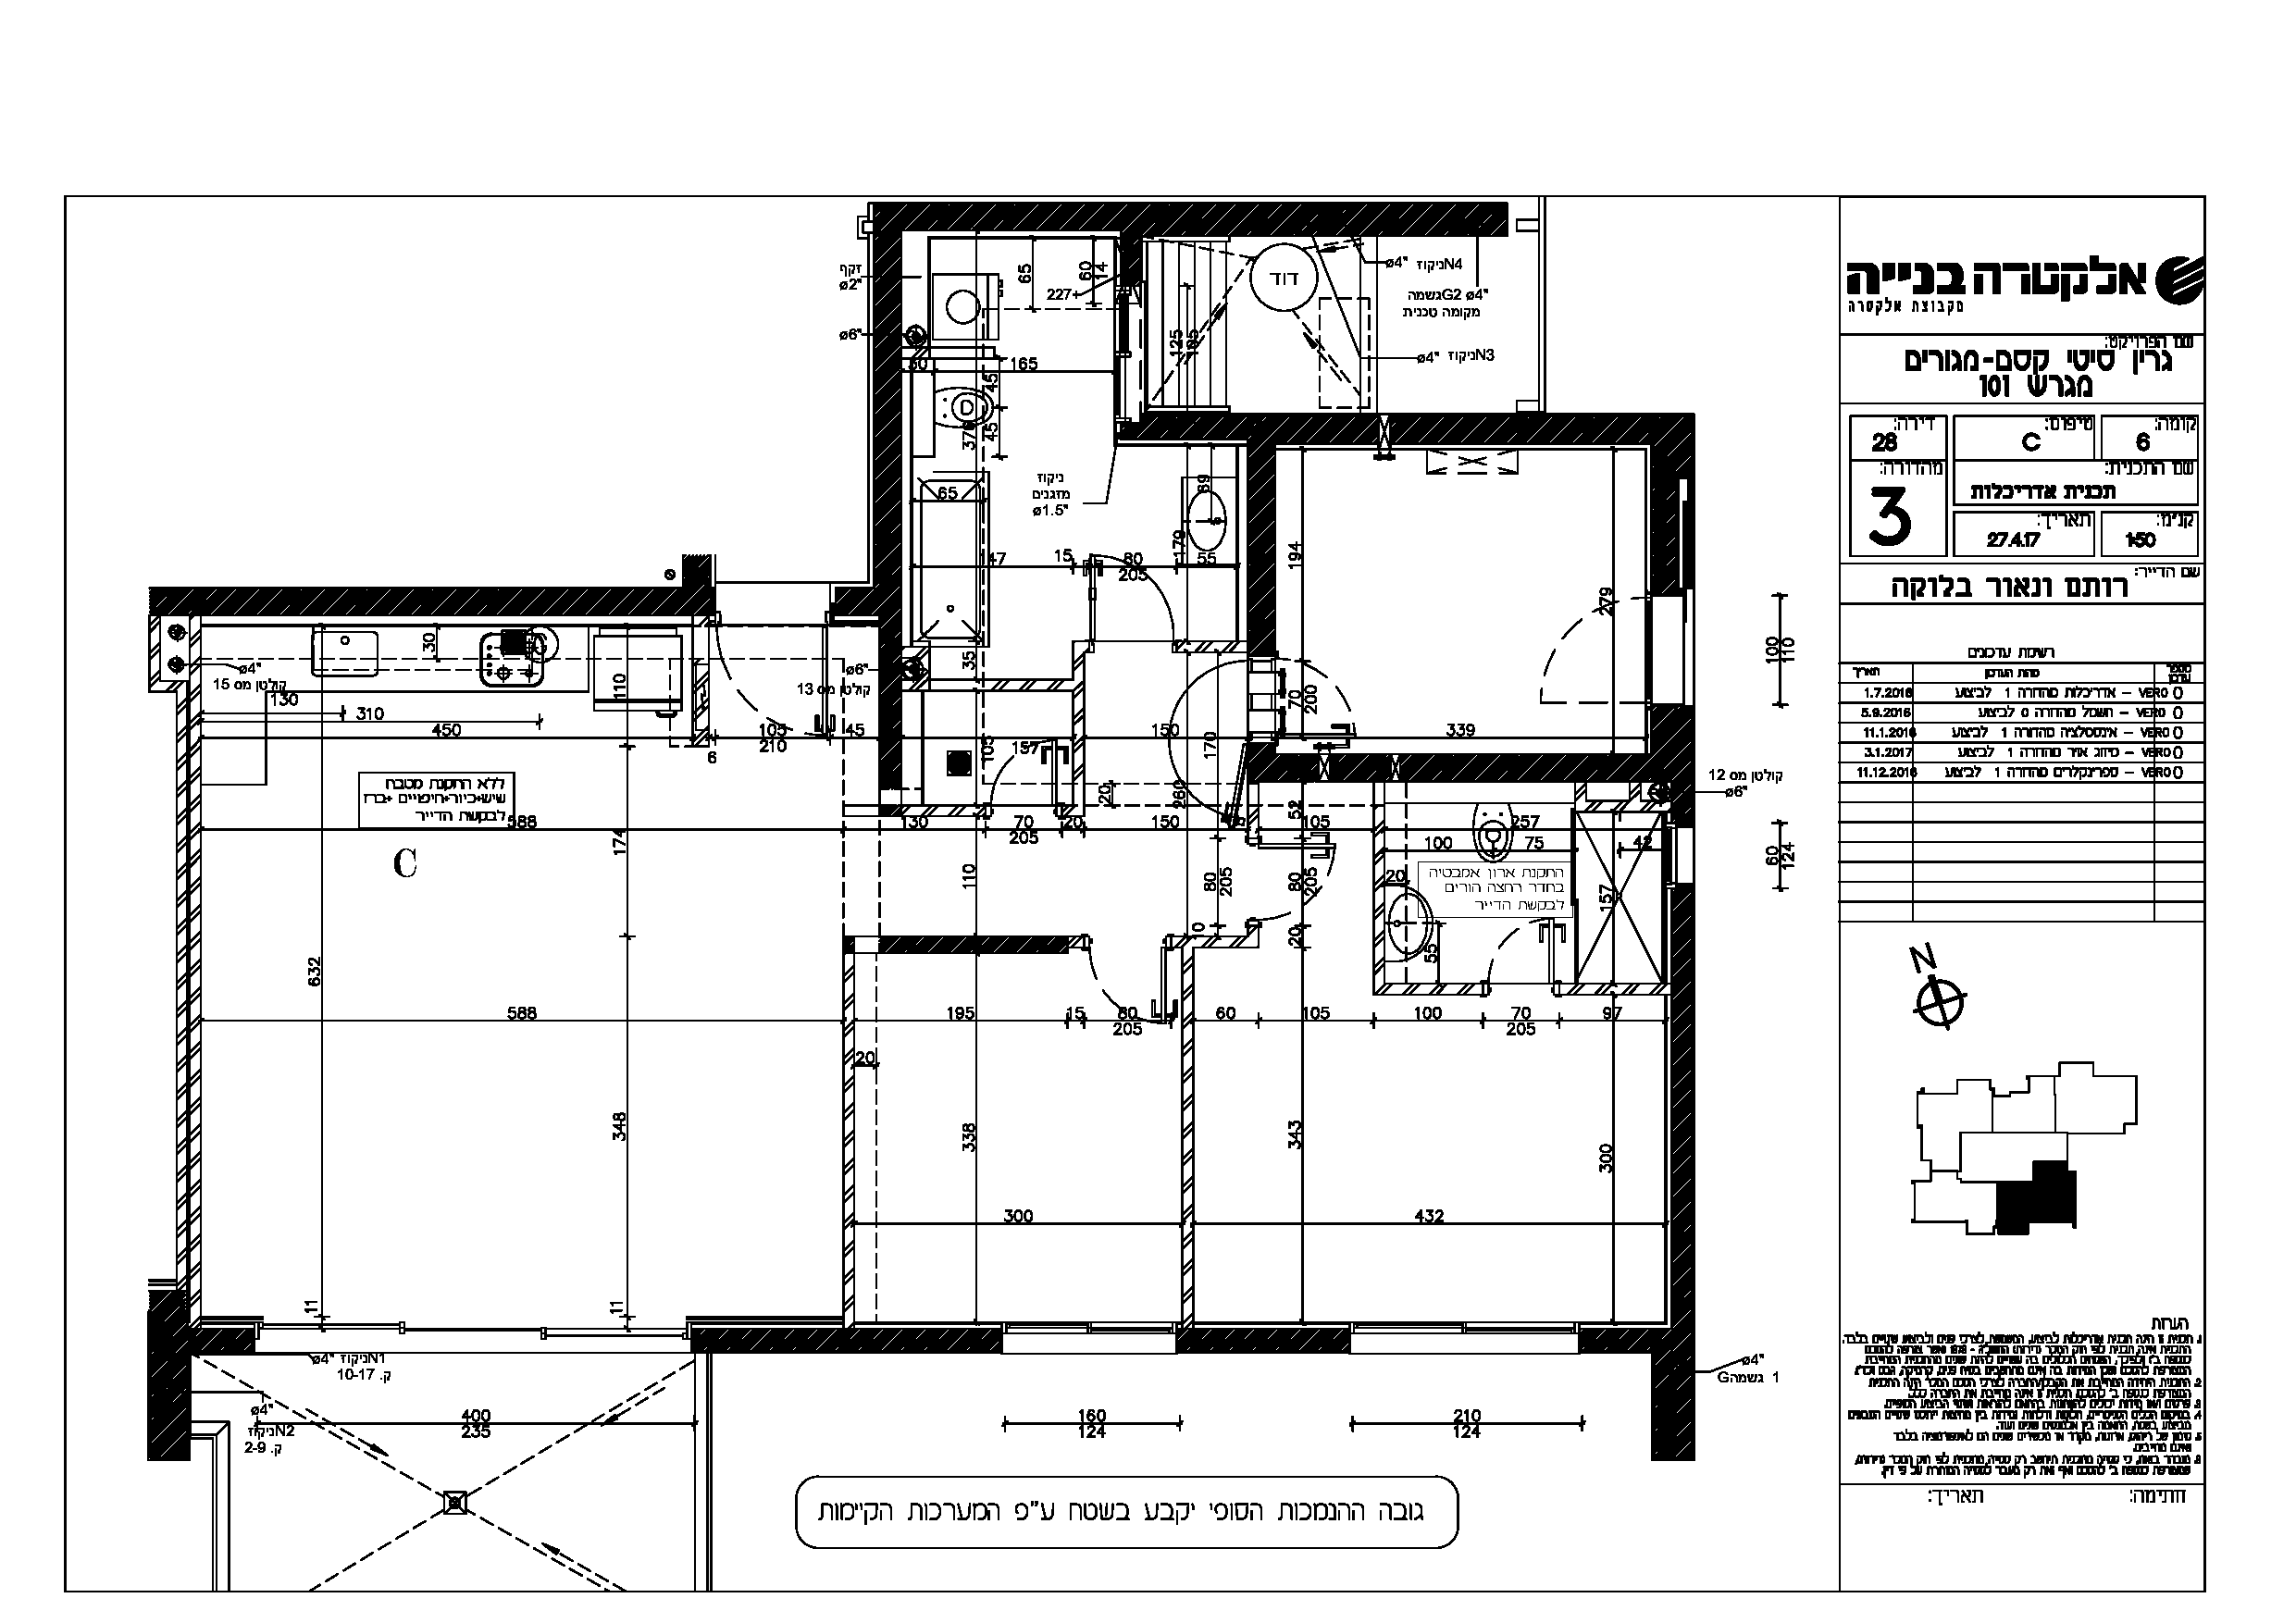wall: (873, 204, 1507, 235), (1147, 411, 1693, 446), (232, 587, 717, 617), (1671, 899, 1693, 1456), (703, 1326, 991, 1352), (1249, 418, 1275, 655), (1180, 1326, 1346, 1354)
window: (1349, 1312, 1581, 1379), (998, 1314, 1179, 1368)
